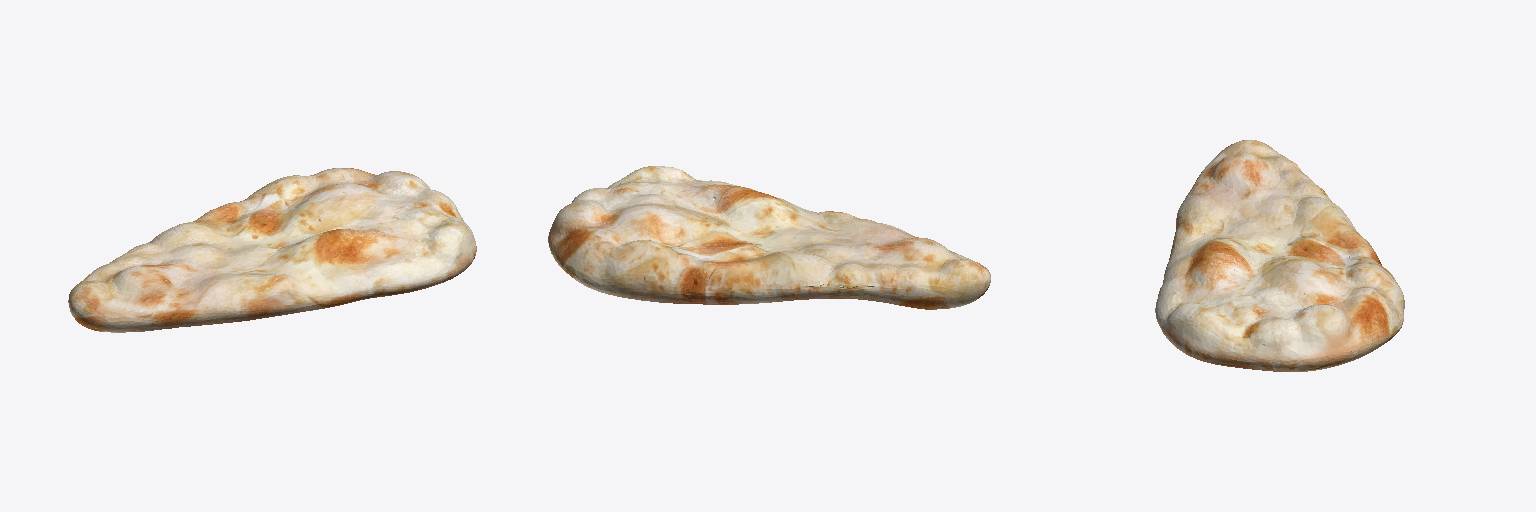
3 renders of one model, left to right at view 1: azimuth 30°, elevation 25°; view 2: azimuth 150°, elevation 25°; view 3: azimuth 270°, elevation 25°, orthographic.
Visible parts, largest first — view 1: nan06; view 2: nan06; view 3: nan06.
Part boxes in pixels (left/top/right/bottom): nan06: left=68, top=168, right=476, bottom=332; nan06: left=548, top=166, right=990, bottom=309; nan06: left=1155, top=140, right=1404, bottom=371.
Bounding box in the file's own units: 3.68 × 0.5791 × 1.98.
Materials: 1 (1 with a texture image).